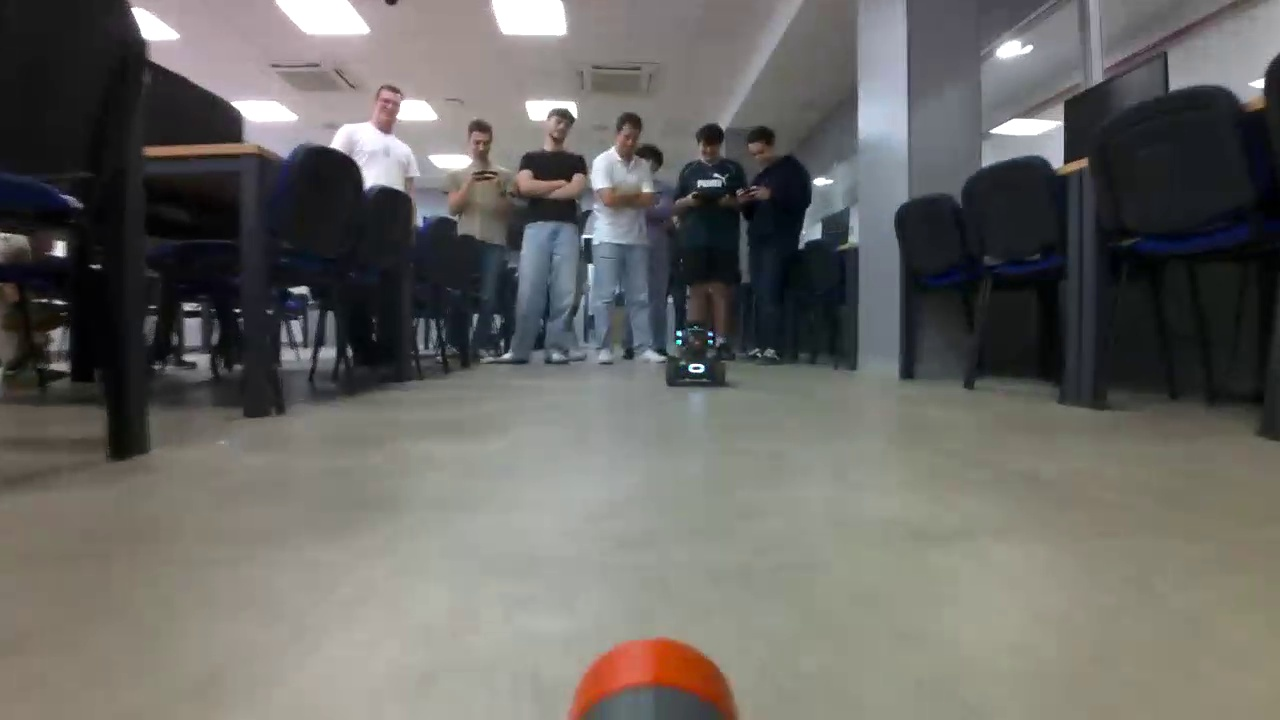robot: (665, 330, 728, 410)
